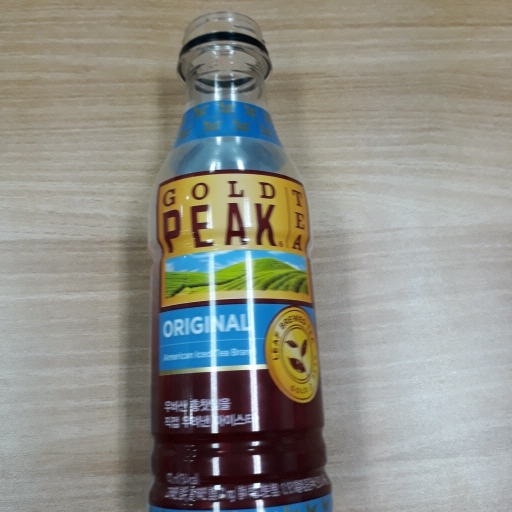Plastic_0: (141, 8, 332, 512)
